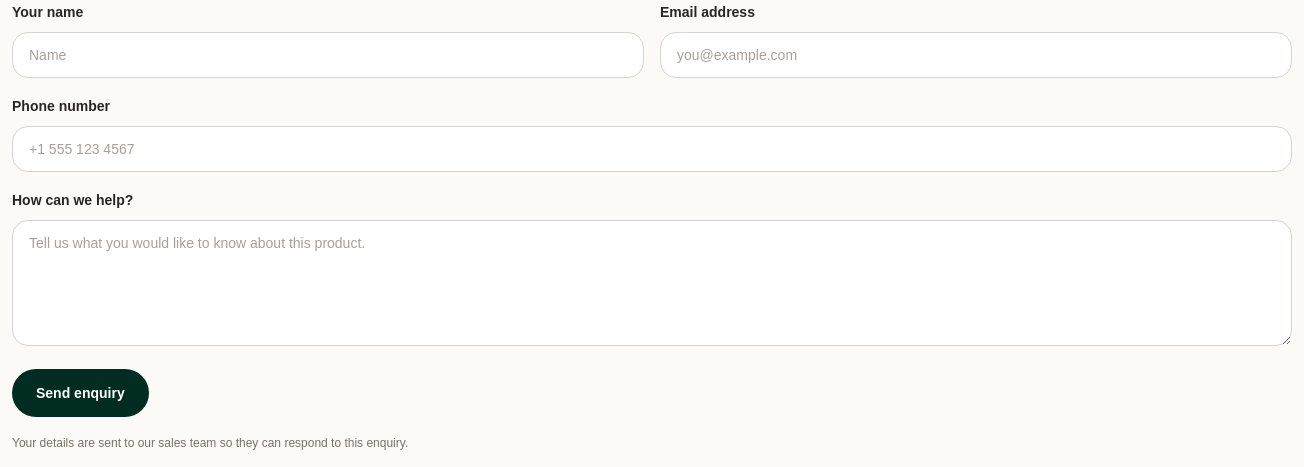
EnquiryFormFeature › shows the thank-you confirmation after the enquiry API succeeds
Type "Asha Rao" into the field labelled "Your name". click: (328, 55)
box: x1=12 y1=32 x2=644 y2=78
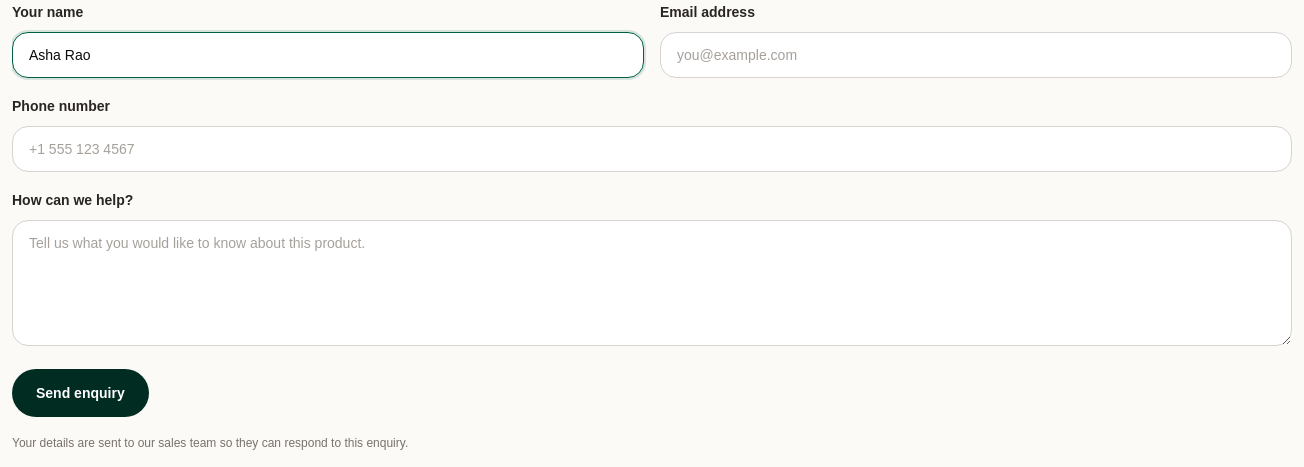
Type "asha@example.com" into the field labelled "Email address". click: (976, 55)
box: x1=660 y1=32 x2=1292 y2=78
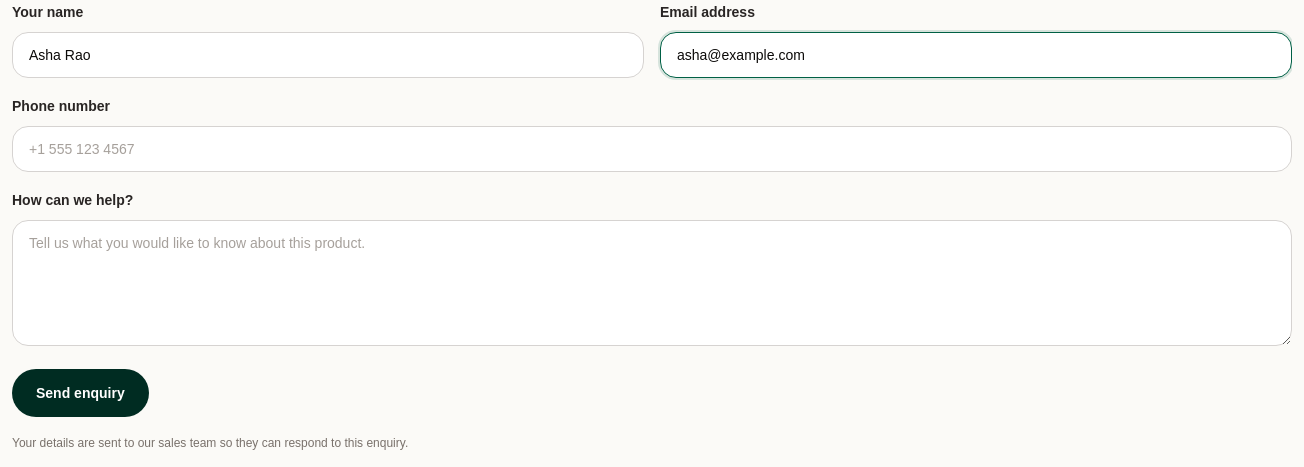
Type "+91 98765 43210" into the field labelled "Phone number". click: (652, 149)
box: x1=12 y1=126 x2=1292 y2=172
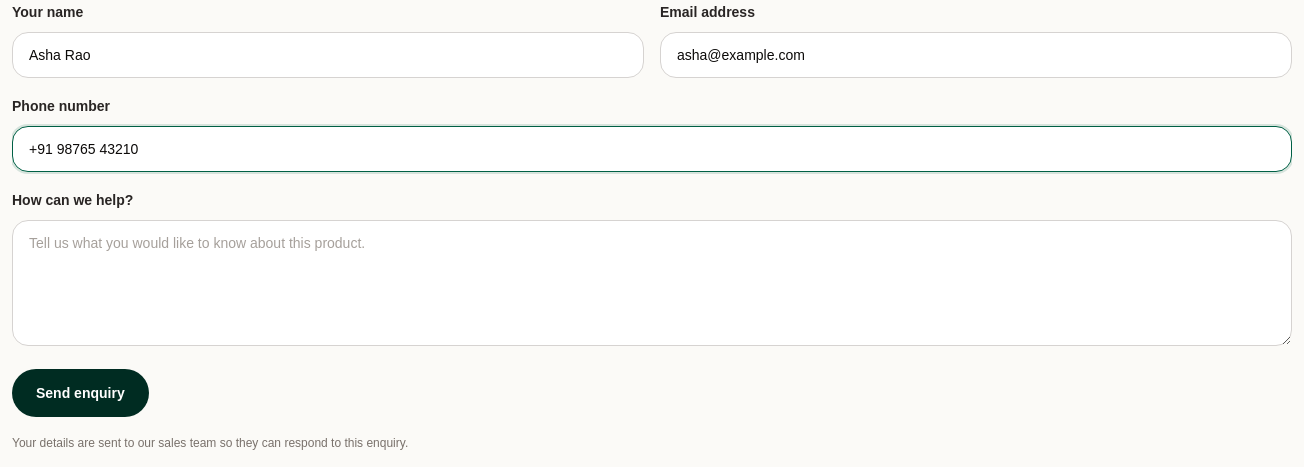
Type "Please share more information about delivery." into the text box labelled "How can we help?". click: (652, 283)
box: x1=12 y1=220 x2=1292 y2=346
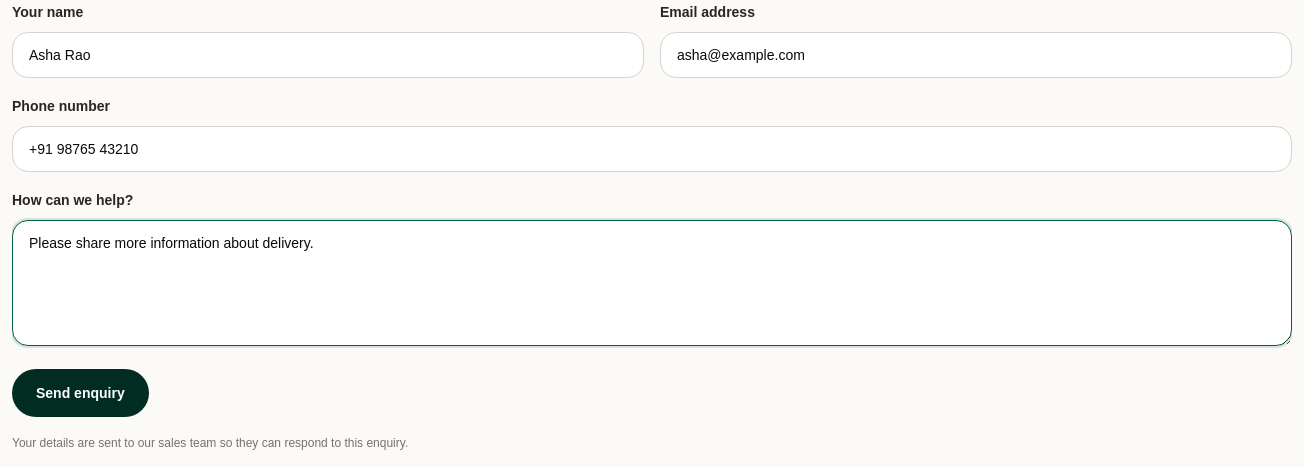
Click the button "Send enquiry". click: (80, 393)
box: x1=12 y1=369 x2=149 y2=417
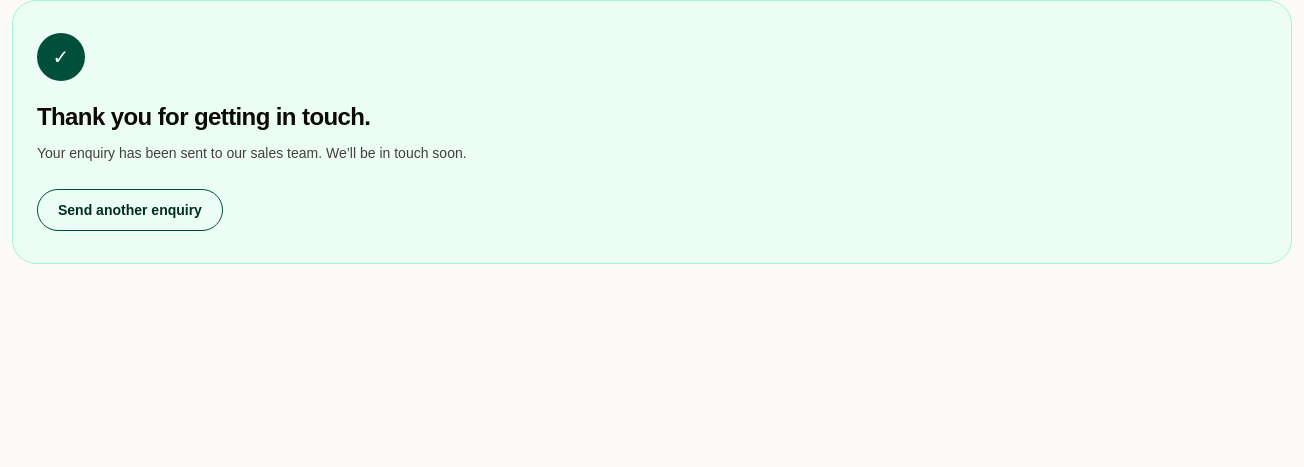
Expected: the heading "Thank you for getting in touch." is shown, x1=37 y1=103 x2=370 y2=130
